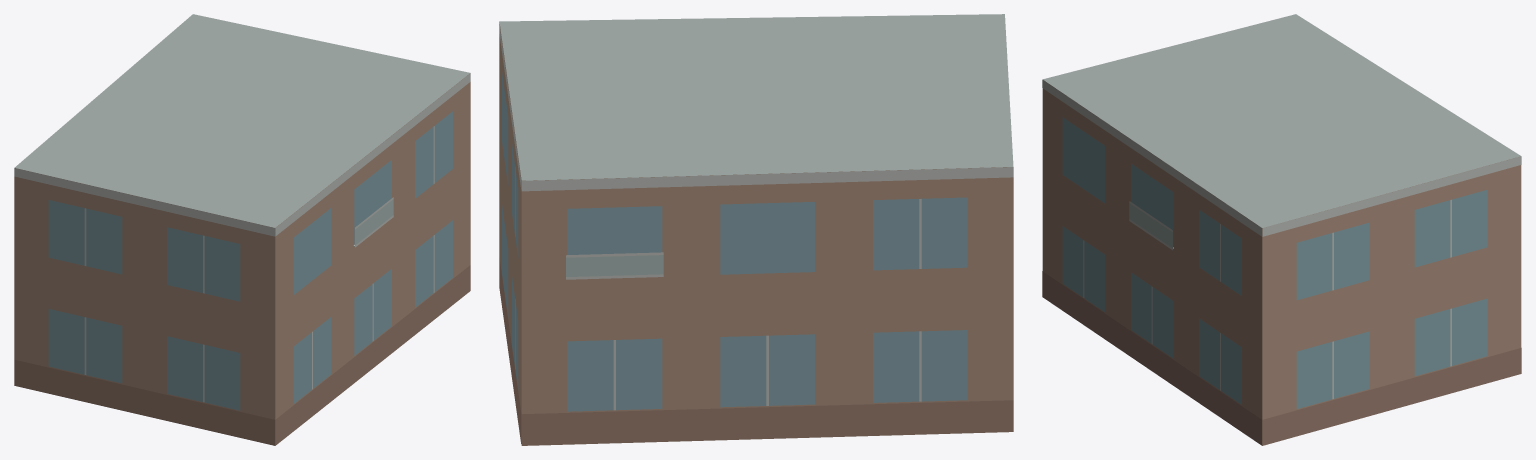
File: survey-upis-32896306.glb
The picture shows the model from 3 angles, left to right: view 1: azimuth 30°, elevation 25°; view 2: azimuth 150°, elevation 25°; view 3: azimuth 270°, elevation 25°; orthographic projection. The views are drawn at different scales.
Visible parts, largest first — view 1: survey-upis-32896306.tmp; view 2: survey-upis-32896306.tmp; view 3: survey-upis-32896306.tmp.
Part boxes in pixels (bbox=[...]): survey-upis-32896306.tmp: bbox=[14, 14, 470, 445]; survey-upis-32896306.tmp: bbox=[499, 14, 1013, 445]; survey-upis-32896306.tmp: bbox=[1042, 14, 1521, 445].
Size of the model in its own units: 12.88 by 6.1 by 12.18.
